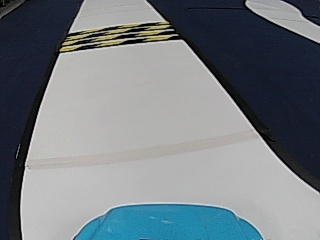bump: (74, 21, 165, 50)
